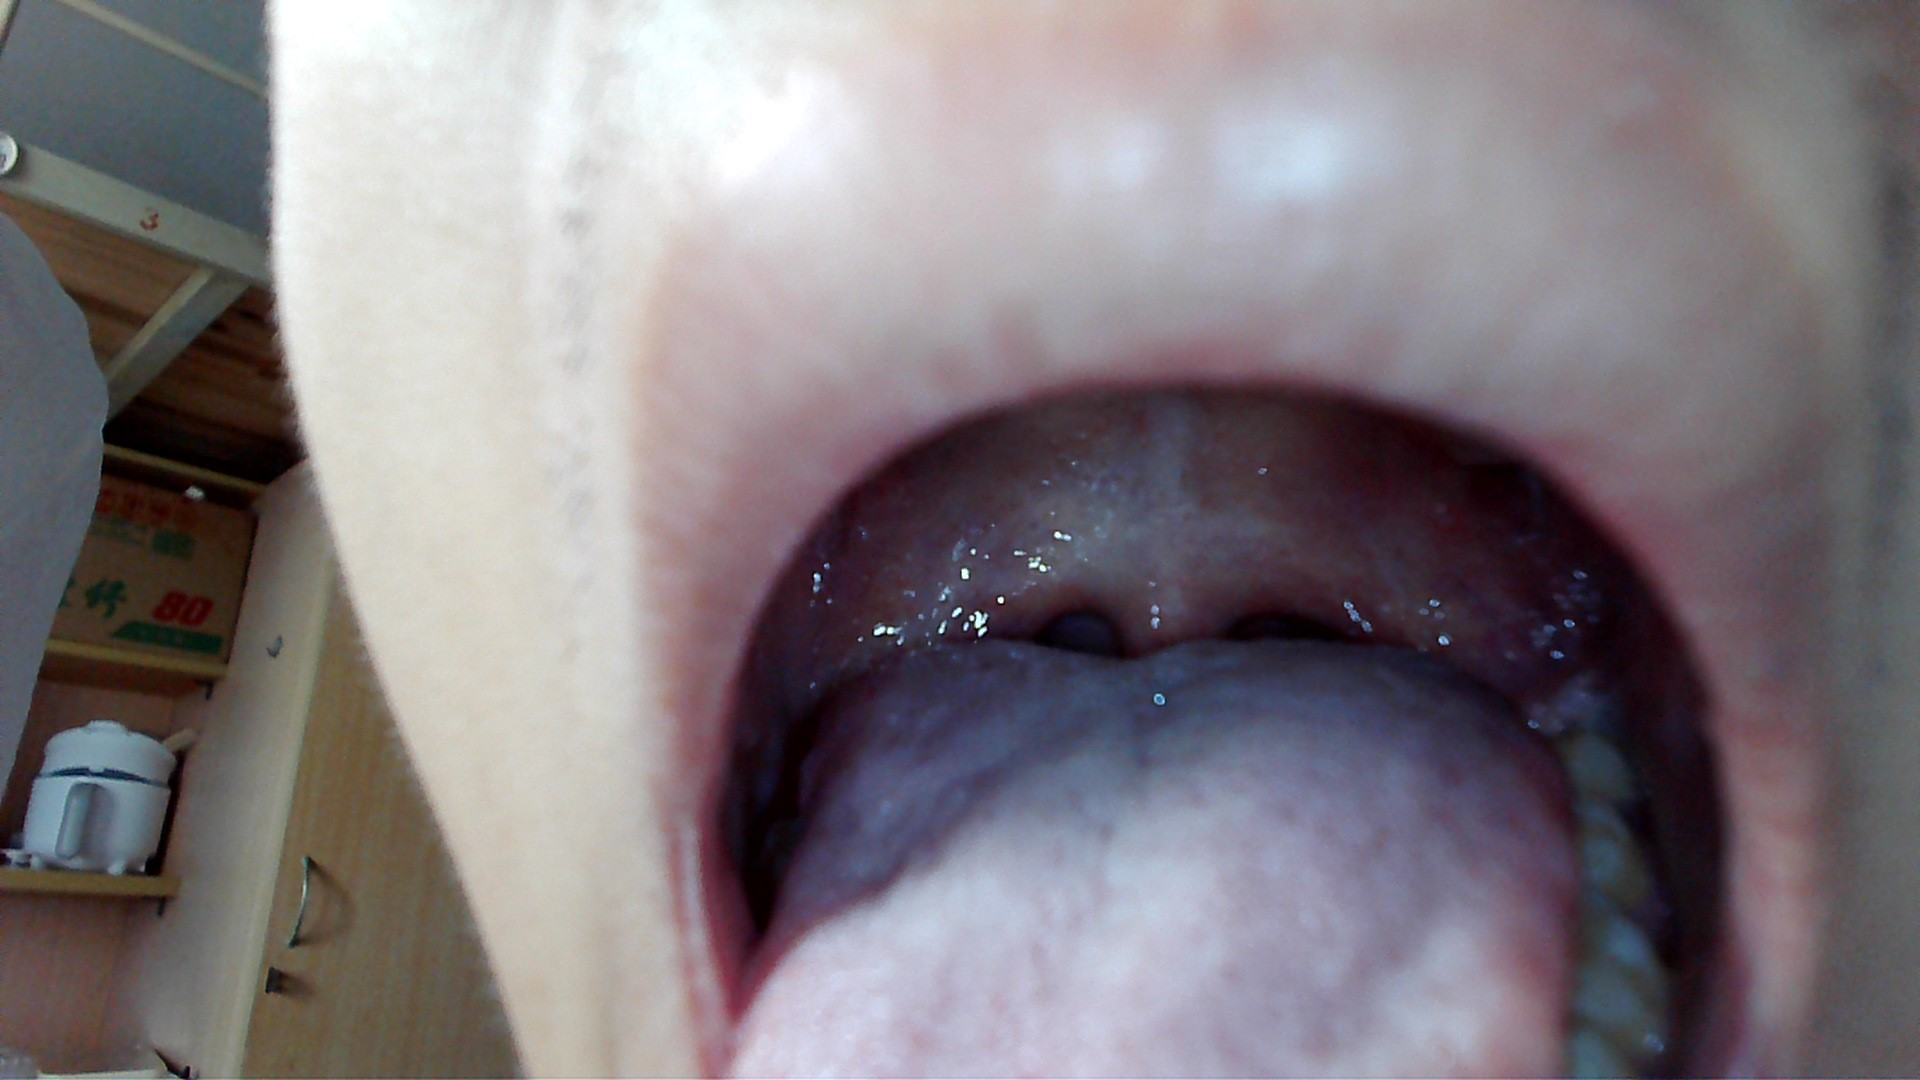throat: (957, 564, 1102, 651)
